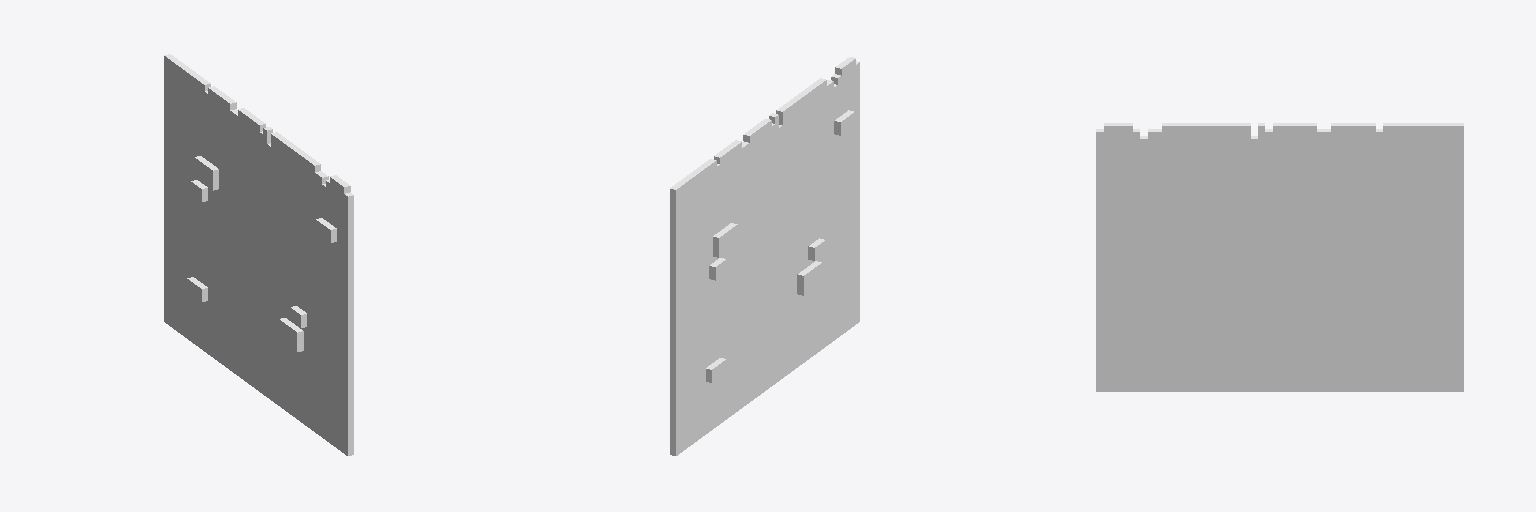
The model's file is Desert-58-Wall_01.obj.
3 views of the same model, side by side, from view 1: azimuth 30°, elevation 25°; view 2: azimuth 150°, elevation 25°; view 3: azimuth 270°, elevation 25° (orthographic).
Parts seen in each view (by area): view 1: Wall_01; view 2: Wall_01; view 3: Wall_01.
Part boxes in pixels (x1,y1,x2,y2): Wall_01: (164, 54, 353, 455); Wall_01: (670, 57, 859, 455); Wall_01: (1096, 123, 1463, 391).
Bounding box in the file's own units: 0.2 × 4 × 5.